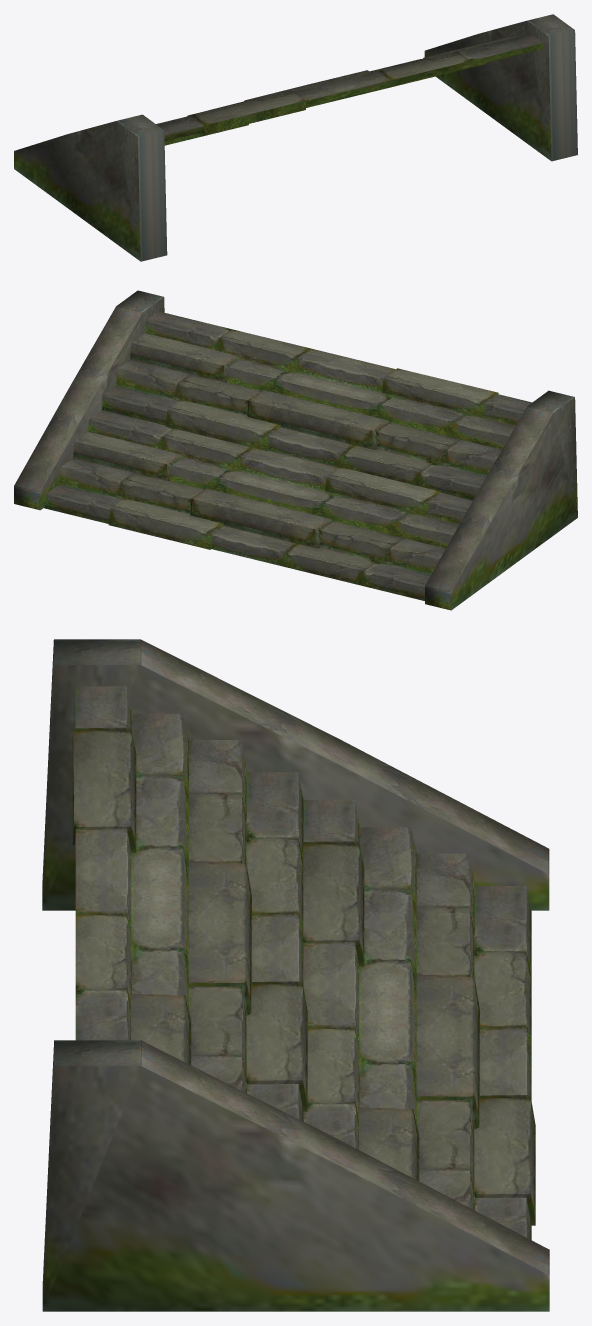
File: THL2_4.fbx
3 renders of one model, top to bottom at view 1: azimuth 30°, elevation 25°; view 2: azimuth 150°, elevation 25°; view 3: azimuth 270°, elevation 25°, orthographic. The views are drawn at different scales.
Visible parts, largest first — view 1: polySurface43; view 2: polySurface43; view 3: polySurface43.
Boxes of the visible parts, bbox=[...] form: polySurface43: bbox=[14, 14, 577, 261]; polySurface43: bbox=[14, 290, 577, 610]; polySurface43: bbox=[42, 639, 549, 1311].
Size of the model in its own units: 10.92 by 2.97 by 5.49.
